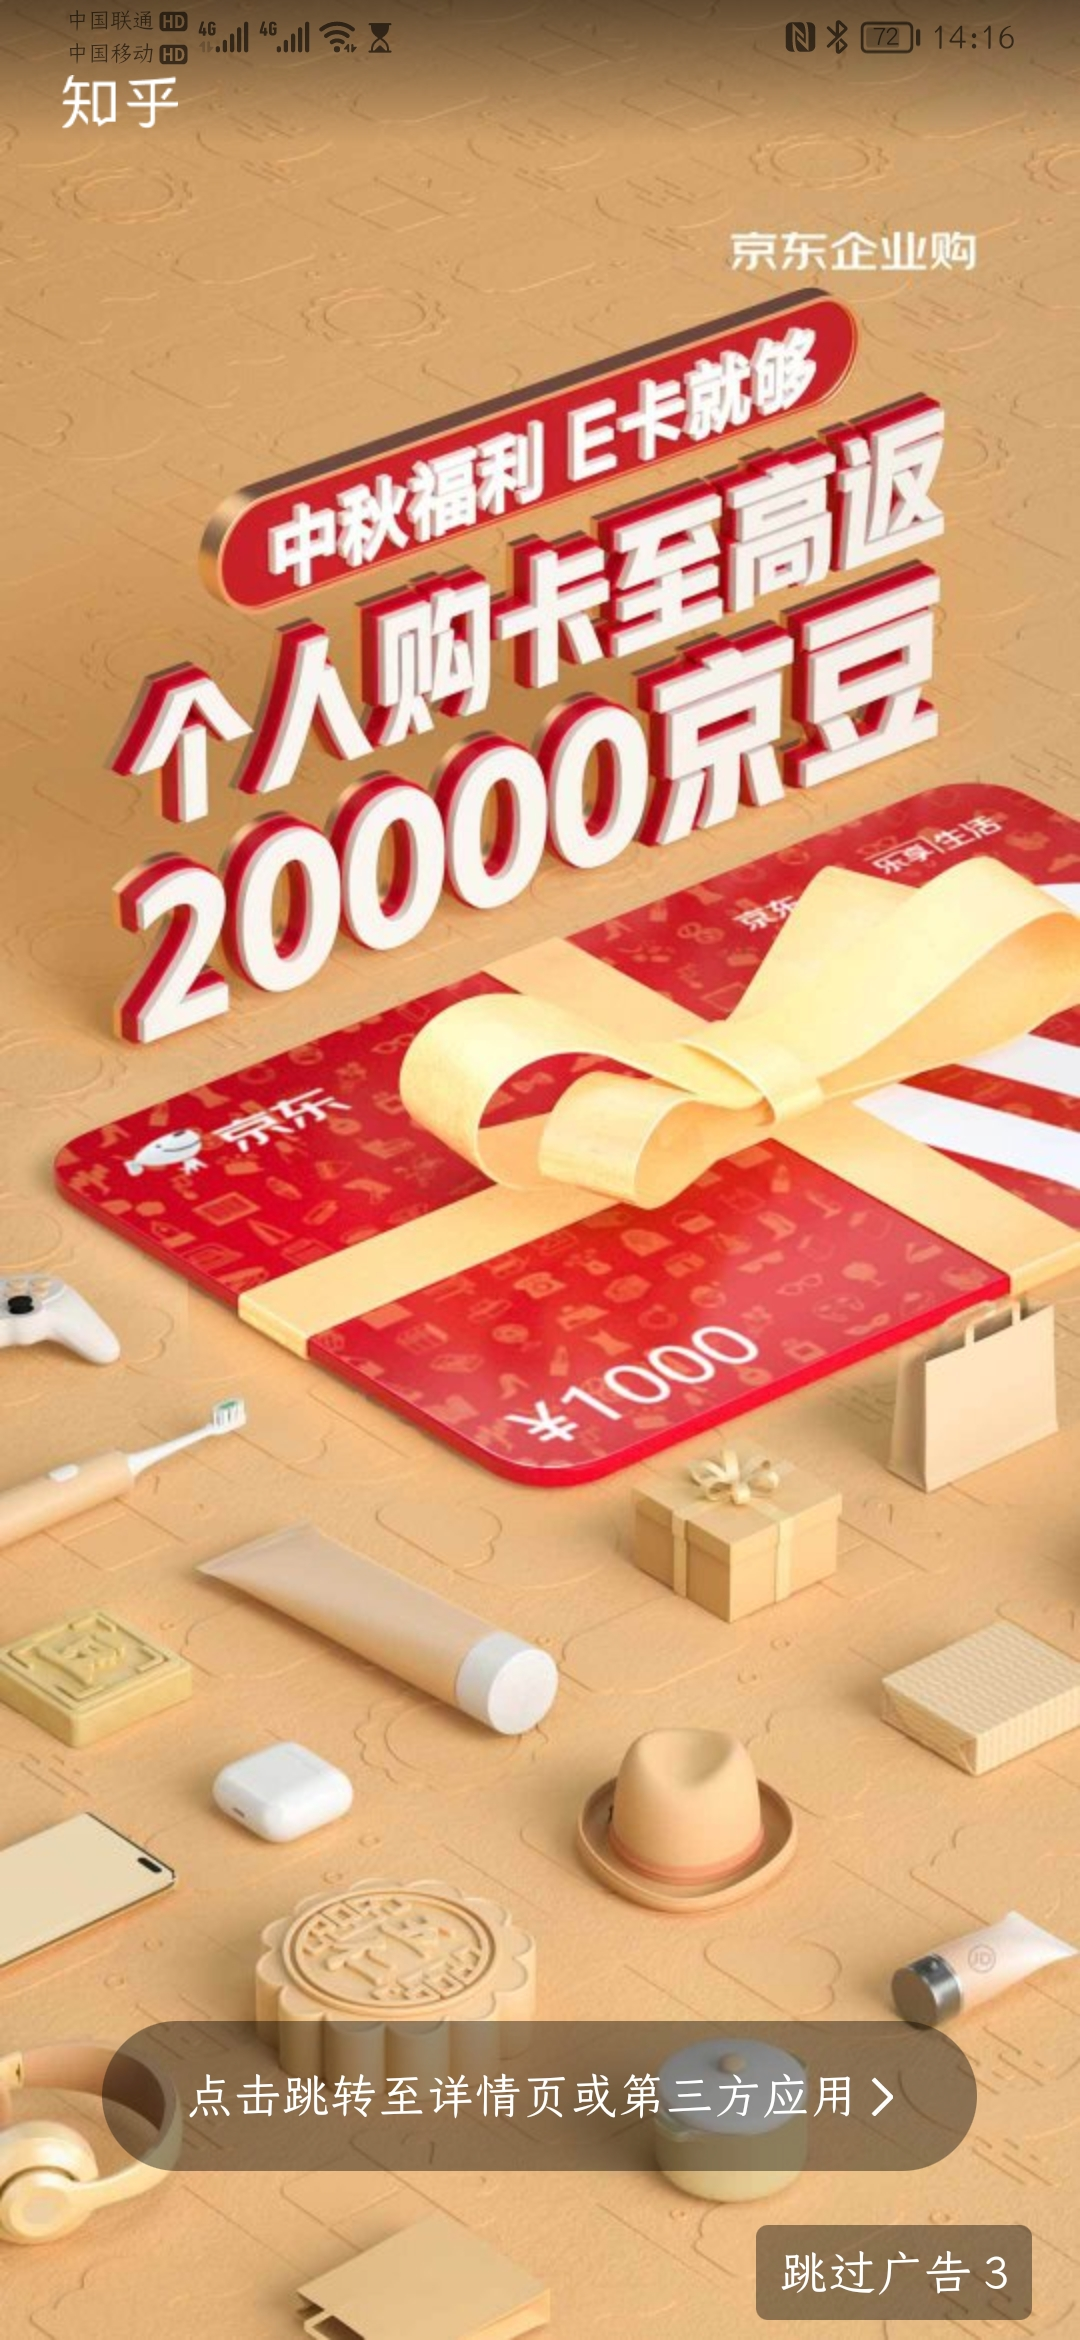skip: (767, 2228, 1026, 2324)
